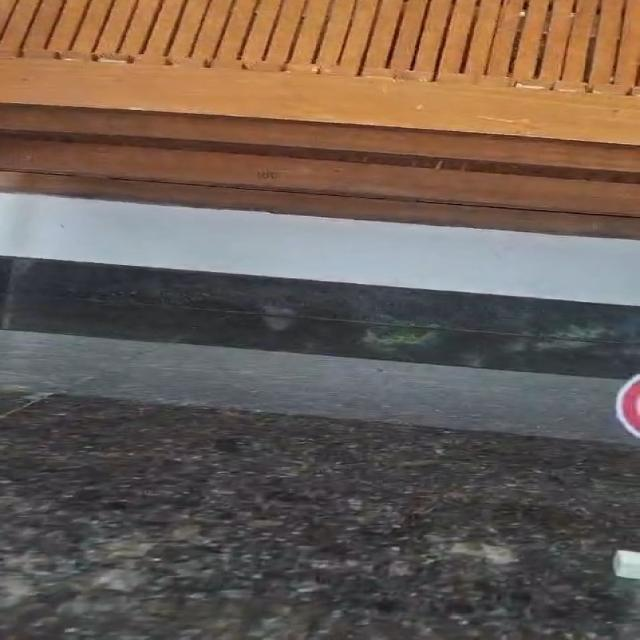Reject: (610, 360, 640, 450)
